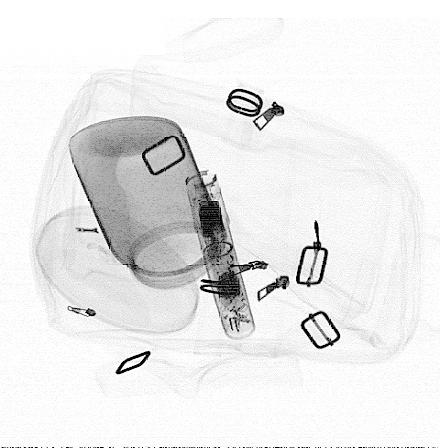Baton: (184, 169, 256, 341)
